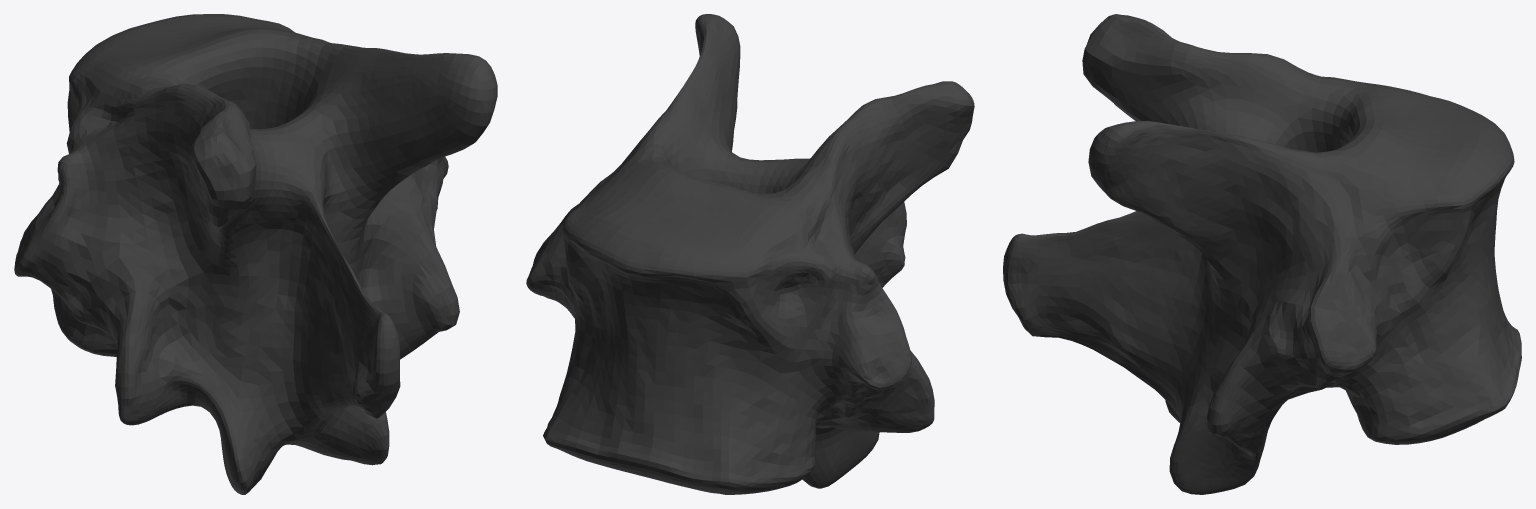
The picture shows the model from 3 angles, left to right: view 1: azimuth 30°, elevation 25°; view 2: azimuth 150°, elevation 25°; view 3: azimuth 270°, elevation 25°; orthographic projection. The views are drawn at different scales.
Visible parts, largest first — view 1: t12_low; view 2: t12_low; view 3: t12_low.
Boxes of the visible parts, x1=… form: t12_low: x1=14, y1=14, x2=497, y2=494; t12_low: x1=526, y1=14, x2=974, y2=494; t12_low: x1=1003, y1=14, x2=1521, y2=494.
Bounding box in the file's own units: 38.91 × 38.15 × 43.94.
Materials: 1 (1 with a texture image).
